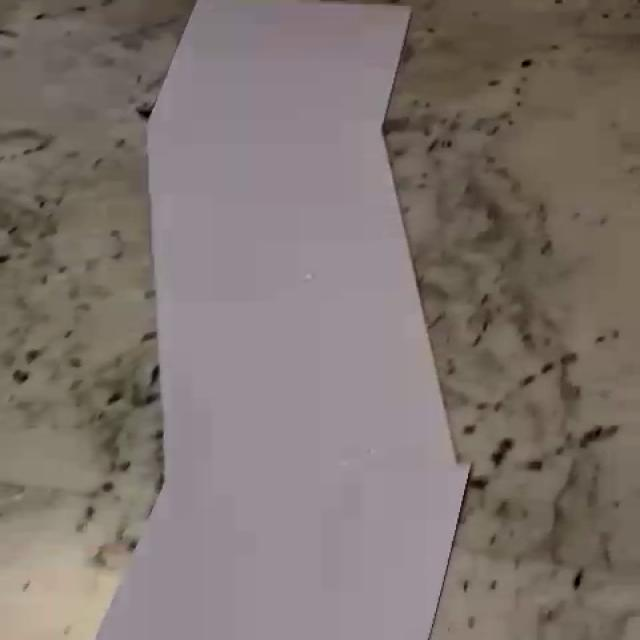road: (97, 0, 468, 640)
